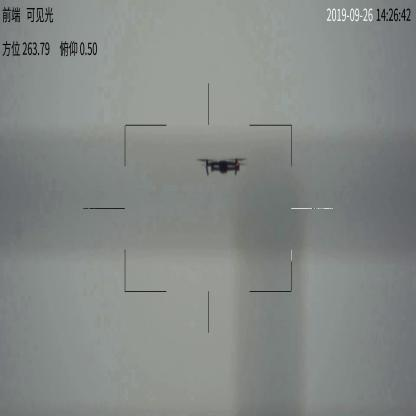uav: (197, 158, 248, 174)
